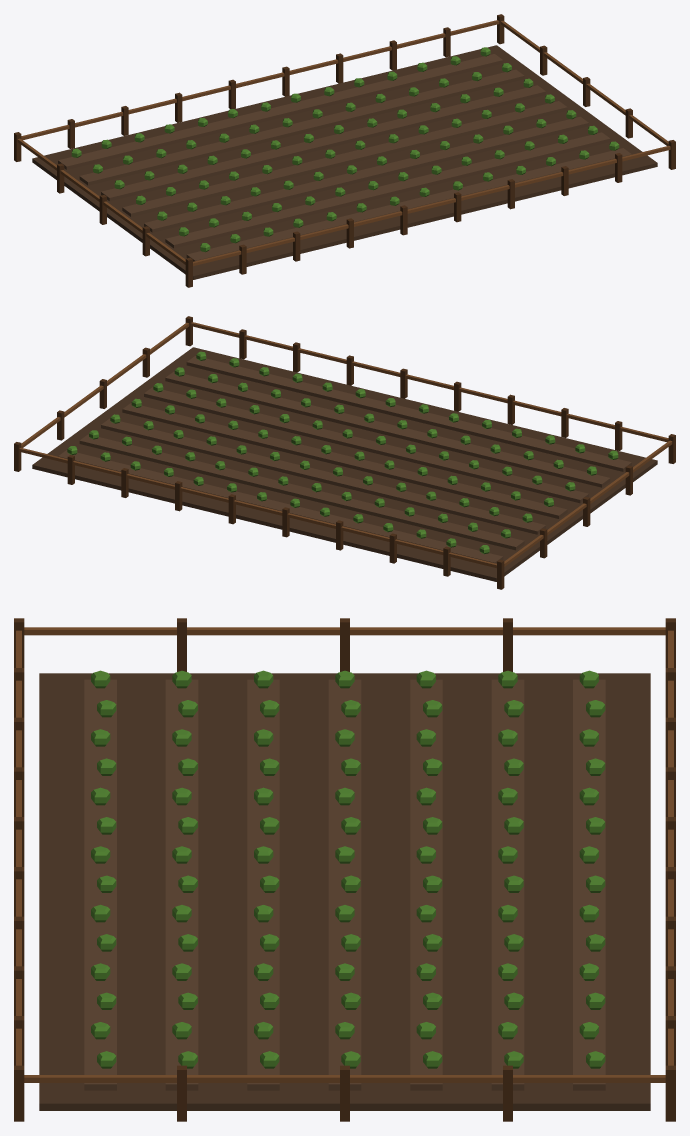
Rendered from field_greens.glb.
3 views of the same model, one above another, from view 1: azimuth 30°, elevation 25°; view 2: azimuth 150°, elevation 25°; view 3: azimuth 270°, elevation 25° (orthographic). The views are drawn at different scales.
Visible parts, largest first — view 1: field_greens; view 2: field_greens; view 3: field_greens.
Boxes of the visible parts, box(x1,y1,x2,y2) form: field_greens: box(14, 14, 675, 287); field_greens: box(14, 316, 675, 589); field_greens: box(14, 618, 675, 1121).
Size of the model in its own units: 5.25 by 0.28 by 3.25.
